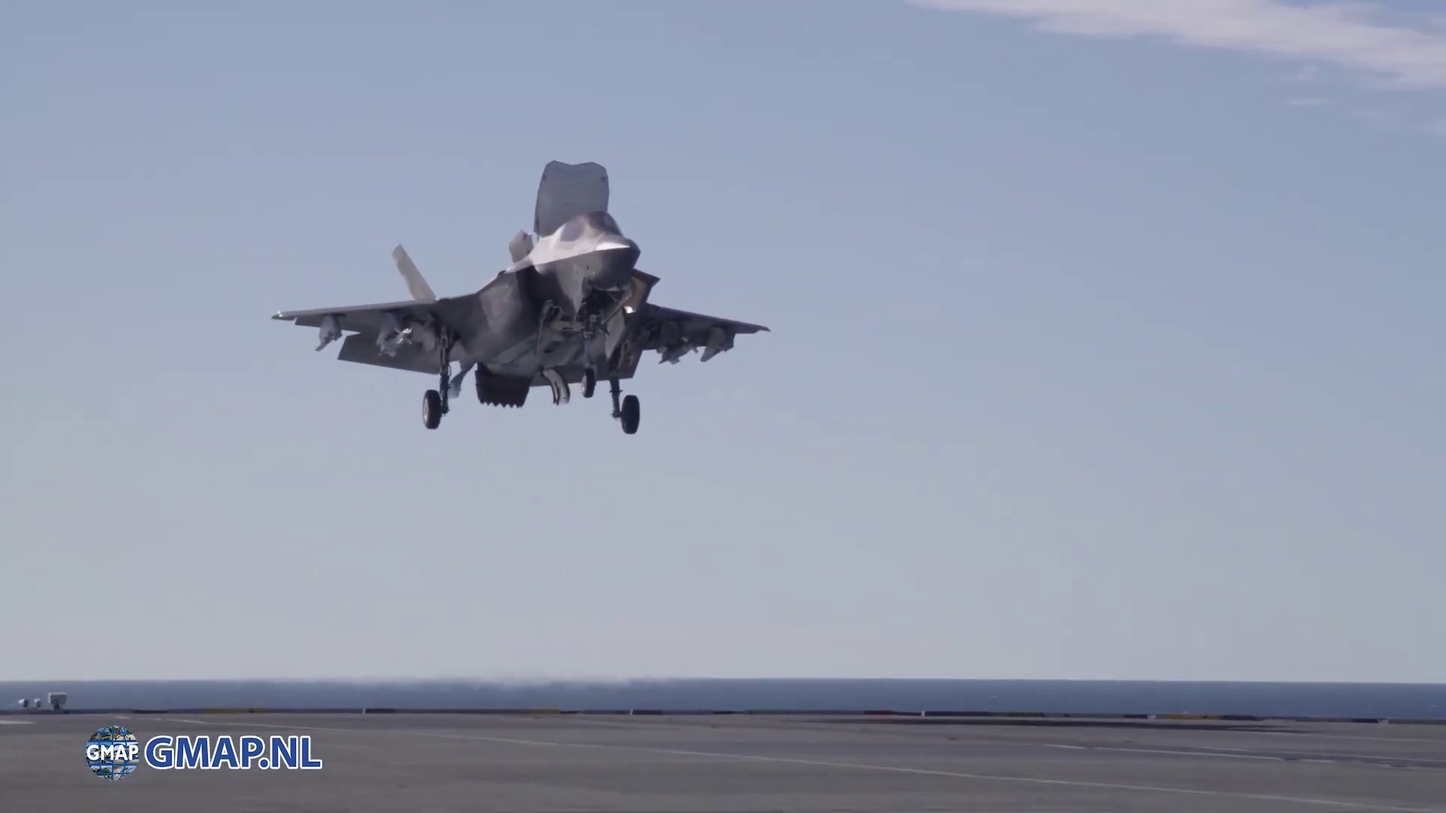F35: (261, 153, 777, 437)
